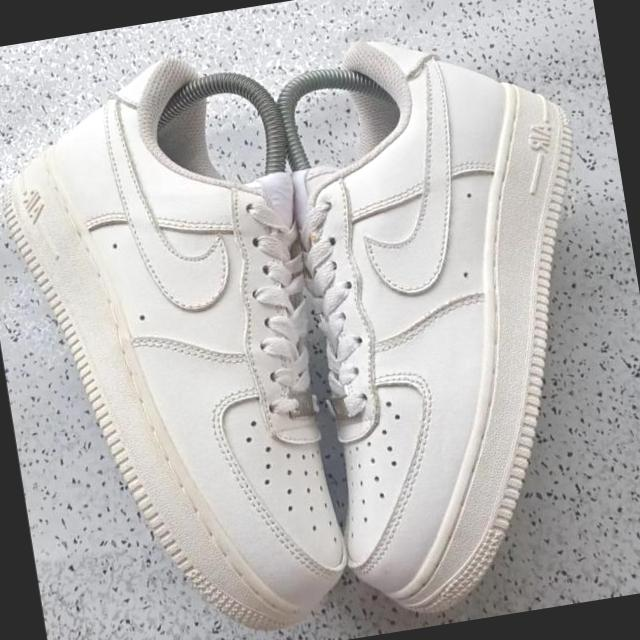nike_original_airforce: (264, 9, 640, 630), (0, 46, 374, 640)
